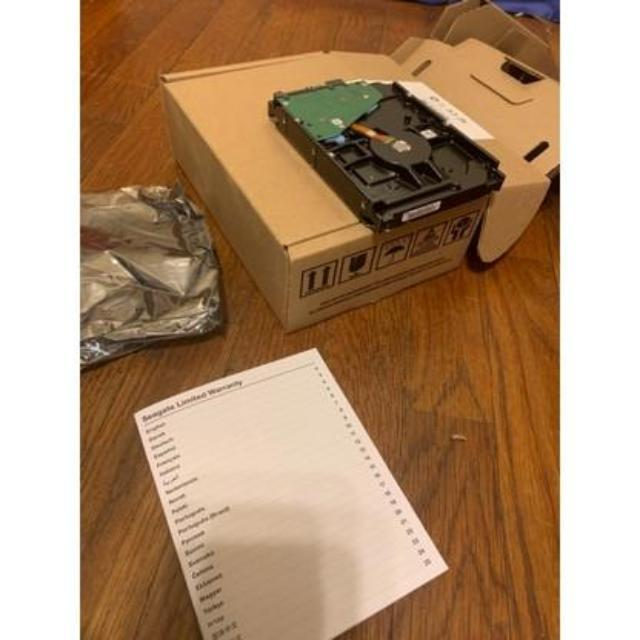DISK: (268, 80, 502, 232)
